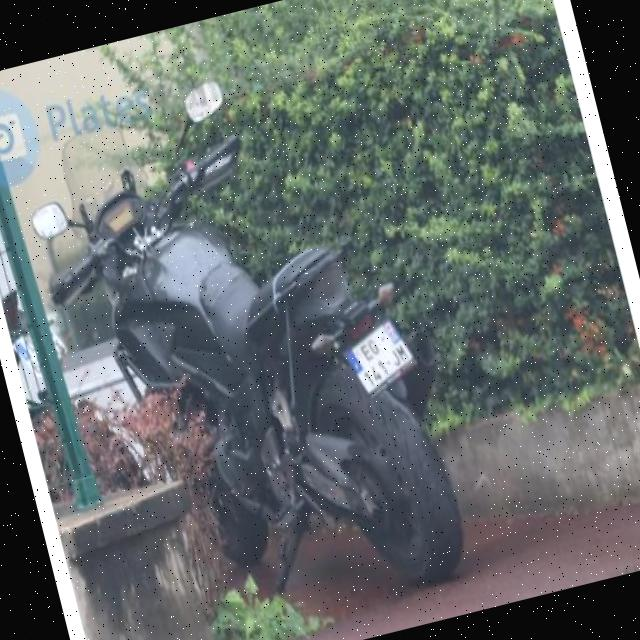EU: (343, 320, 416, 397)
France: (346, 350, 364, 374)
